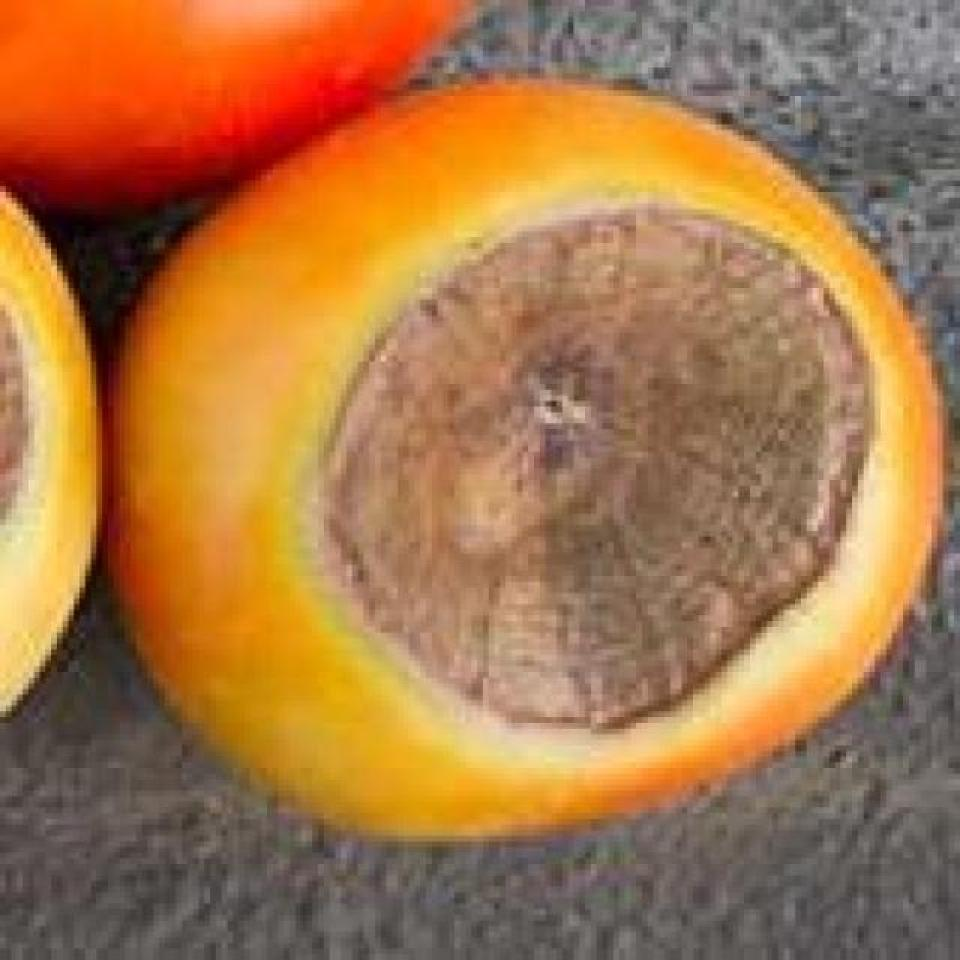Blossom_end_rot: (307, 178, 875, 737), (0, 287, 34, 542)
